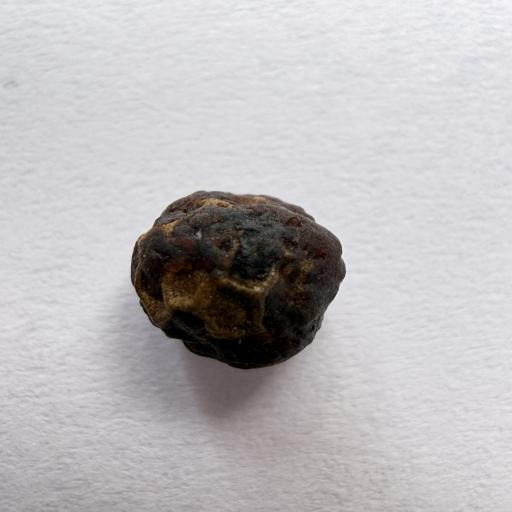Black_pepper: (93, 174, 382, 373)
